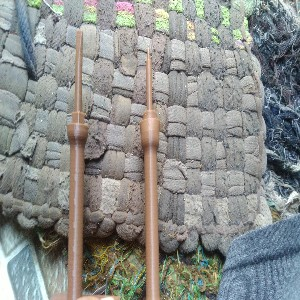obeng: (65, 30, 89, 300)
solder: (139, 46, 161, 300)
